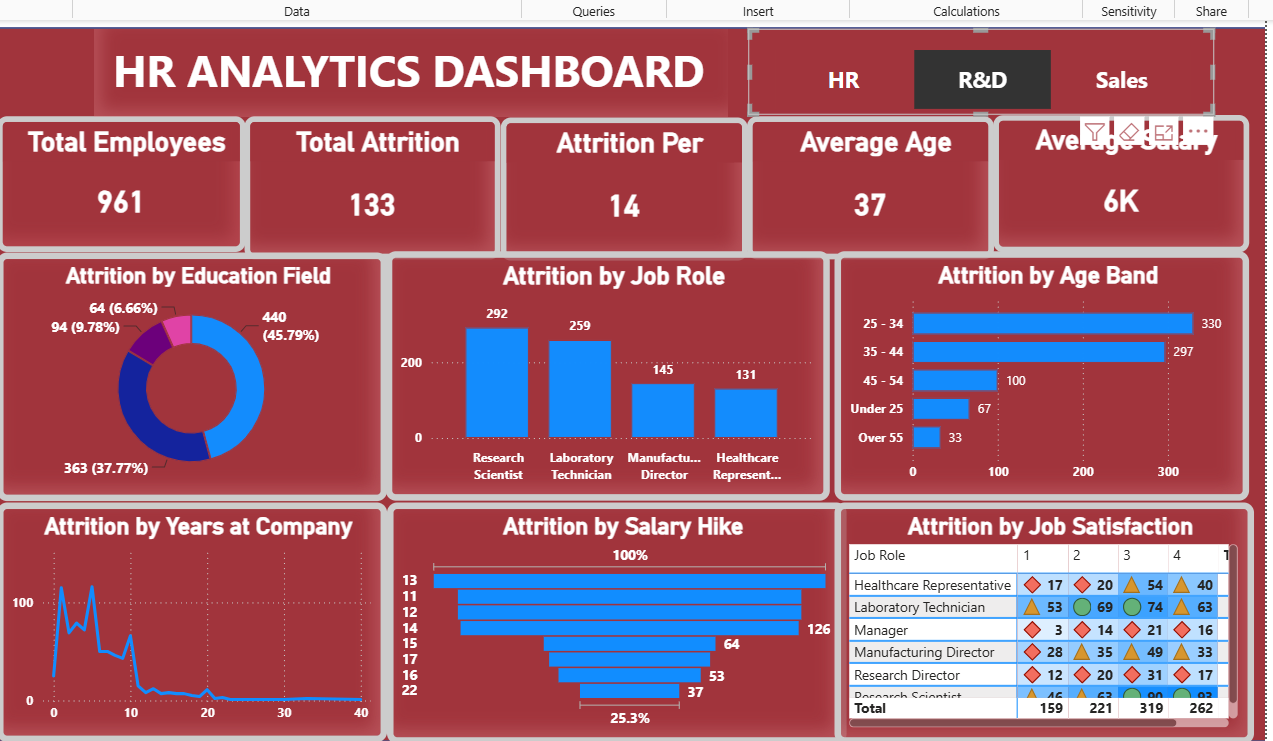

This screenshot's page, from the dashboard's own definition file:
{"tool":"powerbi","page":{"name":"Page 3","canvas":[1280,720],"ordinal":2},"visuals":[{"type":"shape","box":[38.6,7.1,1241.4,698.6],"z":0},{"type":"card","title":"Total Employees","fields":{"Values":["Sum(Data.Employee Count)"]},"box":[38.6,94.3,242.9,132.9],"z":1000},{"type":"card","title":"Total Attrition","fields":{"Values":["Sum(Data.CF_attrition counts)"]},"box":[281.4,94.3,250,140],"z":2000},{"type":"card","title":"Attrition Per","fields":{"Values":["Data.Attrition_per"]},"box":[531.9,94.9,241.5,139.6],"z":3000},{"type":"card","title":"Average Age","fields":{"Values":["Avg(Data.Age)"]},"box":[772.9,94.3,241.4,140],"z":4000},{"type":"card","title":"Average Salary","fields":{"Values":["Avg(Data.Monthly Income)"]},"box":[1014.3,92.9,250,134.3],"z":5000},{"type":"donutChart","title":"Attrition by Education Field","fields":{"Category":["Data.Education Field"],"Y":["CountNonNull(Data.Attrition)"]},"box":[38.6,227.1,381.4,242.9],"z":6000},{"type":"columnChart","title":"Attrition by Job Role","fields":{"Y":["CountNonNull(Data.Attrition)"],"Category":["Data.Job Role"]},"box":[420,225.7,434.3,244.3],"z":7000},{"type":"barChart","title":"Attrition by Age Band","fields":{"Y":["CountNonNull(Data.Attrition)"],"Category":["Data.CF_age band"]},"box":[858.6,225.7,405.7,244.3],"z":8000},{"type":"lineChart","title":"Attrition by Years at Company","fields":{"Y":["CountNonNull(Data.Attrition)"],"Category":["Data.Years At Company"]},"box":[38.6,471.4,381.4,234.3],"z":9000},{"type":"funnel","title":"Attrition by Salary Hike","fields":{"Y":["CountNonNull(Data.Attrition)"],"Category":["Data.Percent Salary Hike"]},"box":[420.2,471.9,449.6,236],"z":10000},{"type":"pivotTable","title":"Attrition by Job Satisfaction","fields":{"Rows":["Data.Job Role"],"Columns":["Data.Job Satisfaction"],"Values":["CountNonNull(Data.Attrition)"]},"box":[858.6,471.4,410,235.7],"z":11000},{"type":"textbox","box":[134,8.4,619.9,86.6],"z":12000},{"type":"slicer","title":"Department","fields":{"Values":["Data.Department"]},"box":[773.5,8.4,456.5,85.2],"z":13000}]}

Visuals, with their boxes in screenshot pixels (x1, y1, x2, y2):
shape: bbox=(0, 24, 1262, 734)
"Total Employees" card: bbox=(0, 112, 246, 248)
"Total Attrition" card: bbox=(246, 112, 501, 255)
"Attrition Per" card: bbox=(501, 113, 747, 255)
"Average Age" card: bbox=(746, 112, 992, 255)
"Average Salary" card: bbox=(992, 111, 1246, 248)
"Attrition by Education Field" donutChart: bbox=(0, 248, 387, 494)
"Attrition by Job Role" columnChart: bbox=(387, 246, 829, 494)
"Attrition by Age Band" barChart: bbox=(833, 246, 1246, 494)
"Attrition by Years at Company" lineChart: bbox=(0, 496, 387, 734)
"Attrition by Salary Hike" funnel: bbox=(387, 496, 845, 736)
"Attrition by Job Satisfaction" pivotTable: bbox=(833, 496, 1250, 736)
textbox: bbox=(96, 25, 727, 113)
"Department" slicer: bbox=(747, 25, 1211, 112)
